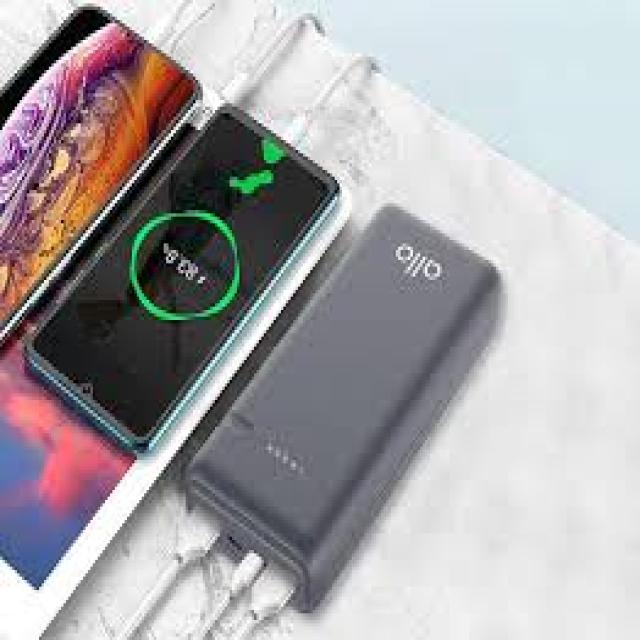power_bank: (188, 204, 508, 617)
